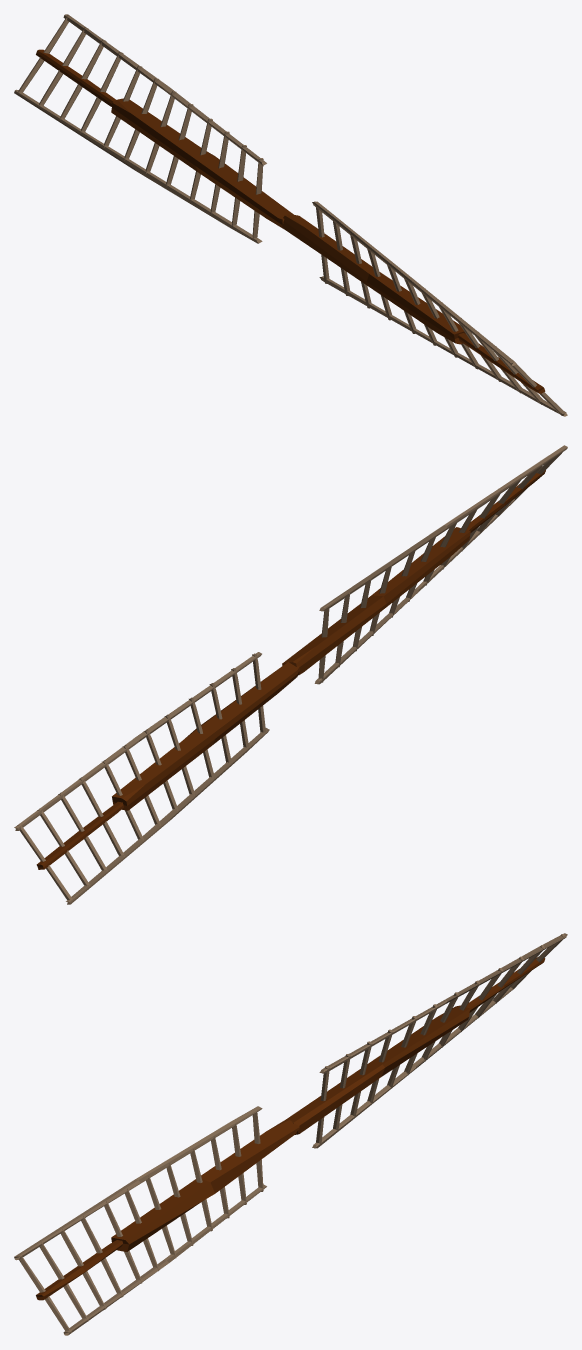
Rendered from WindmillBlade.fbx.
The picture shows the model from 3 angles, top to bottom: view 1: azimuth 30°, elevation 25°; view 2: azimuth 150°, elevation 25°; view 3: azimuth 330°, elevation 25°; orthographic projection.
Visible parts, largest first — view 1: Windmill.001; view 2: Windmill.001; view 3: Windmill.001.
Part boxes in pixels (<box>): Windmill.001: <box>14,14,567,416</box>; Windmill.001: <box>14,445,567,904</box>; Windmill.001: <box>14,933,567,1335</box>.
Bounding box in the file's own units: 1.3 × 2.12 × 20.2.
